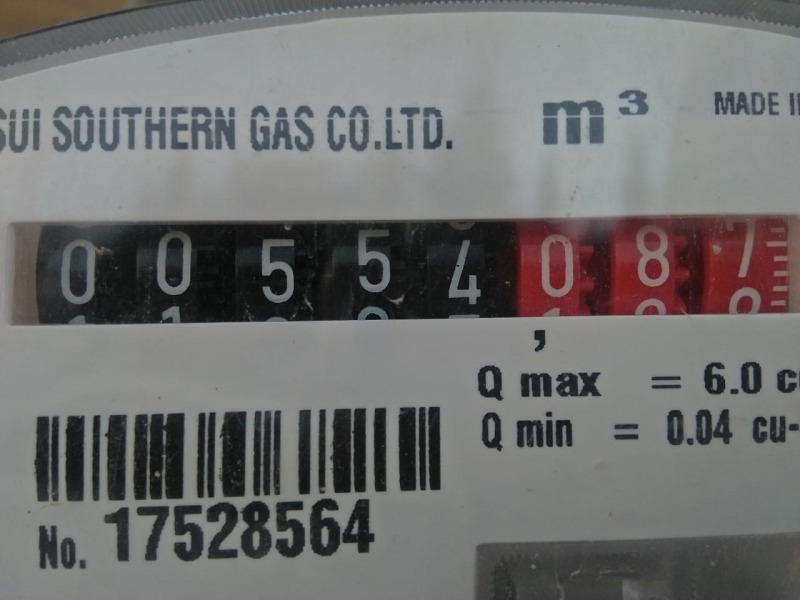ssgc: (9, 215, 791, 326)
